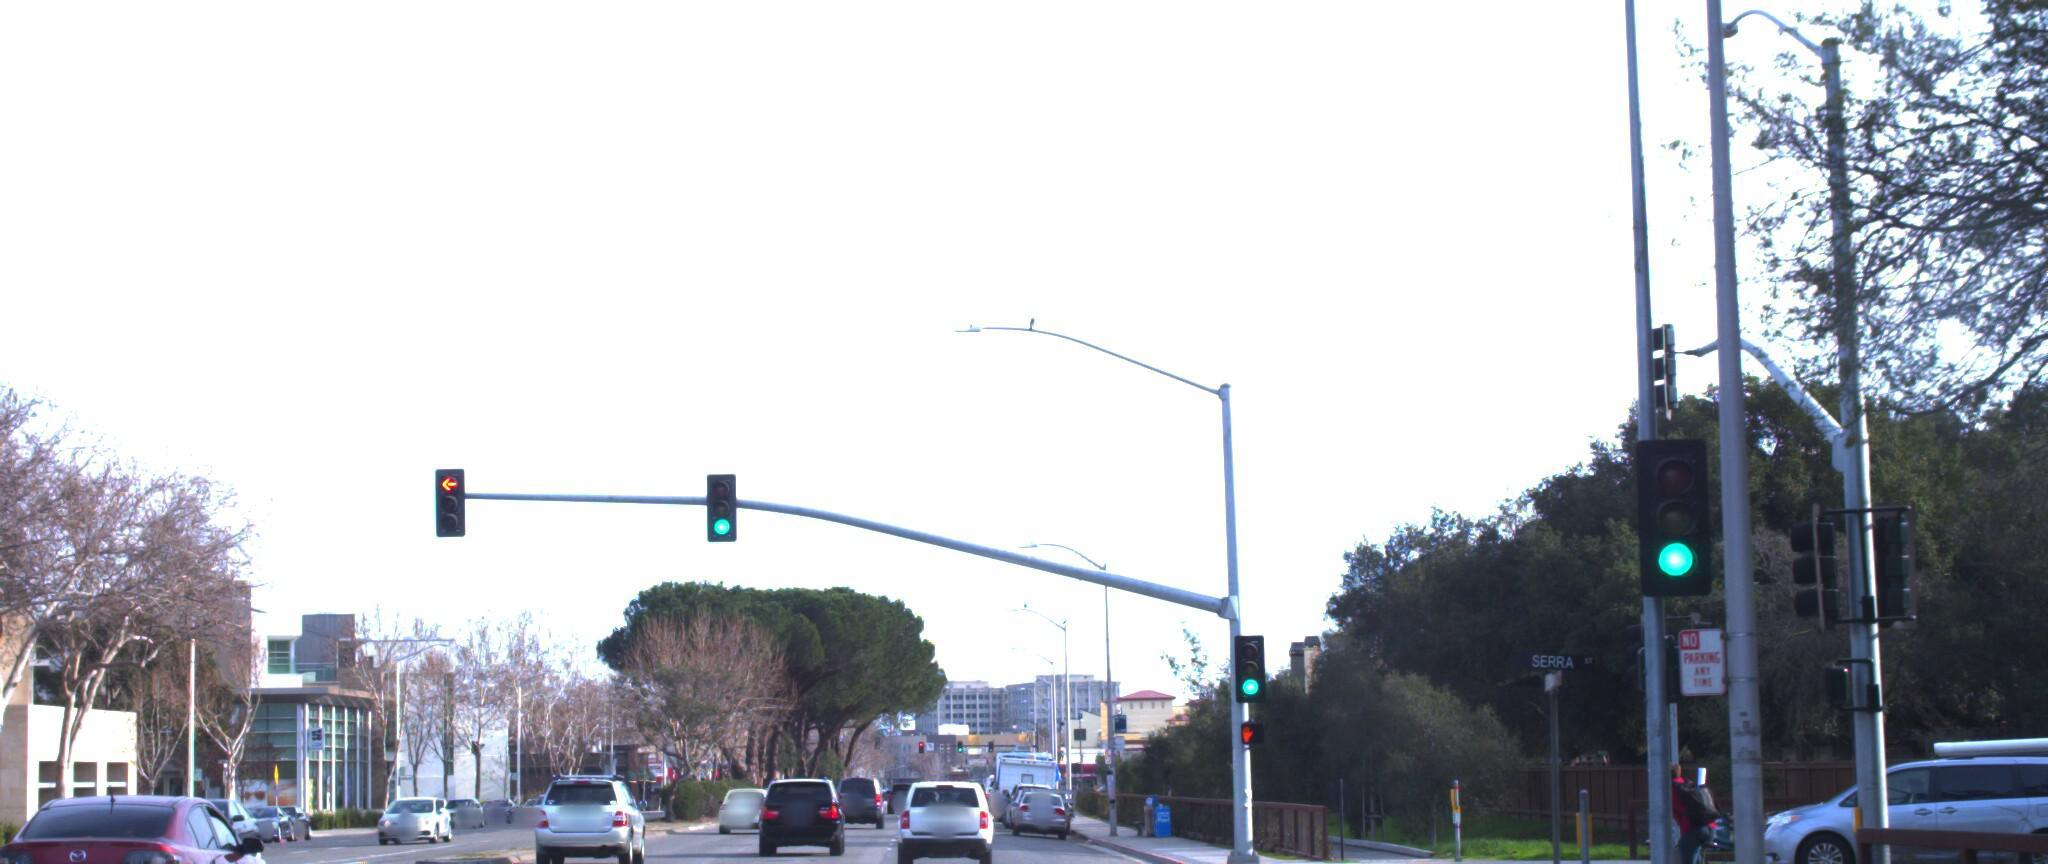bicycle: (1591, 747, 1775, 864)
car: (1729, 750, 2048, 864), (0, 782, 290, 864), (1903, 720, 2048, 864), (525, 773, 649, 864), (889, 771, 994, 864), (750, 777, 839, 861)
